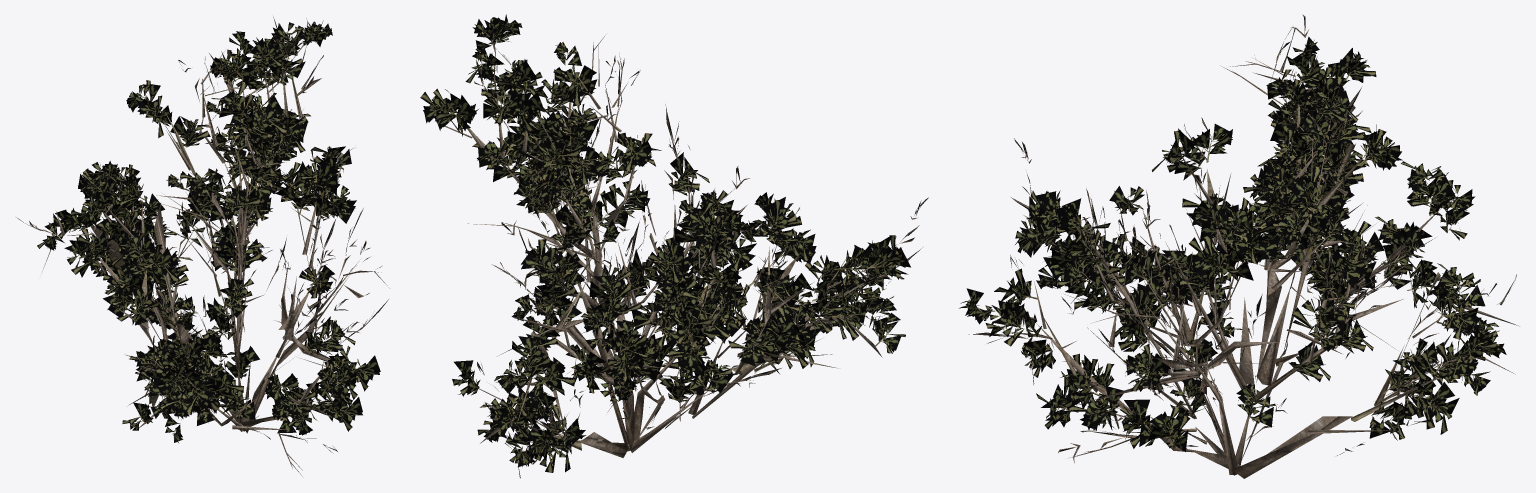
The model's file is woody-scrub.glb.
3 views of the same model, side by side, from view 1: azimuth 30°, elevation 25°; view 2: azimuth 150°, elevation 25°; view 3: azimuth 270°, elevation 25° (orthographic). The views are drawn at different scales.
Parts seen in each view (by area): view 1: LOD0_1, LOD0_2, LOD0_0, LOD1_0, LOD1_2; view 2: LOD0_1, LOD0_2, LOD0_0, LOD1_0, LOD1_2; view 3: LOD0_1, LOD0_2, LOD0_0, LOD1_0.
Part boxes in pixels (x1,y1,x2,y2): LOD0_1: (37,20,380,442); LOD0_2: (42,18,389,476); LOD0_0: (16,16,388,453); LOD1_0: (18,21,385,449); LOD1_2: (90,167,353,426); LOD0_1: (420,14,910,478); LOD0_2: (435,25,888,457); LOD0_0: (445,53,928,450); LOD1_0: (451,53,924,442); LOD1_2: (493,44,874,457); LOD0_1: (959,36,1506,451); LOD0_2: (968,48,1519,478); LOD0_0: (968,14,1516,463); LOD1_0: (973,16,1516,451).
Size of the model in its own units: 1.27 by 1.46 by 1.65.
Materials: 3 (3 with a texture image).
